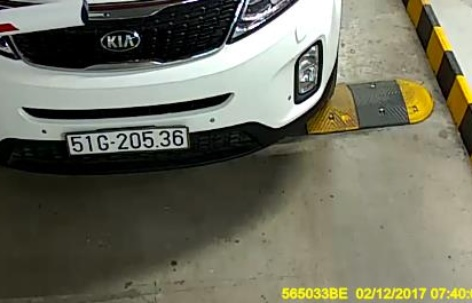plate: (61, 125, 196, 159)
